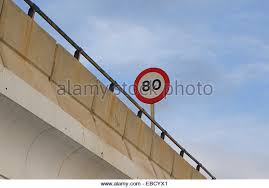Speed_limit_80km: (134, 68, 171, 103)
